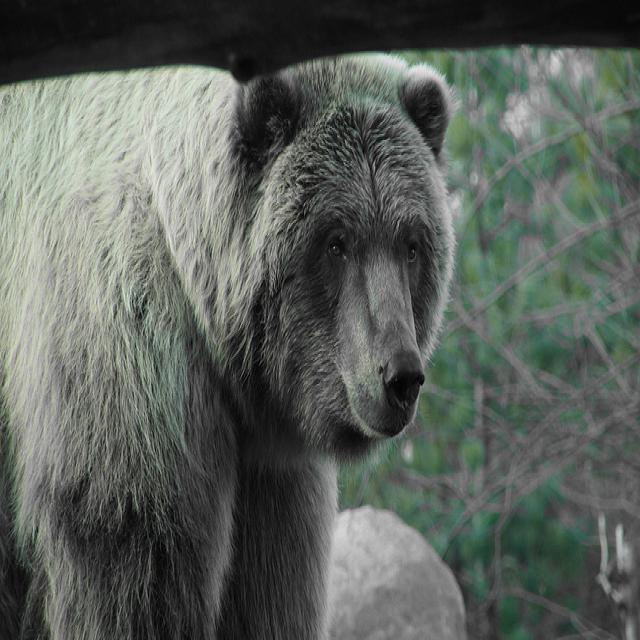Bear: (0, 49, 462, 640)
